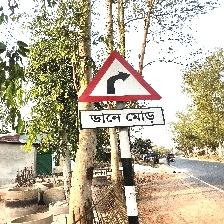Right-turn: (78, 50, 166, 130)
